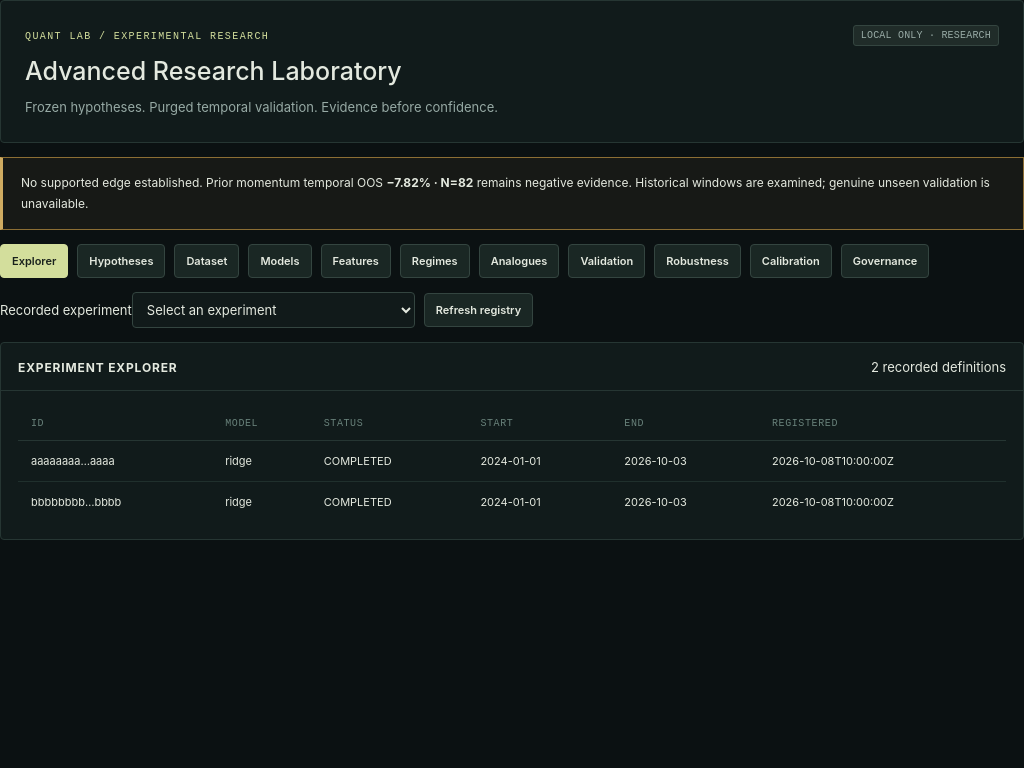
Test case: Advanced experimental Quant Lab › analogue search uses explicit reference date and stored outcomes
Select "ridge · COMPLETED · aaaaaaaa…aaaa" in the dropdown labelled "Recorded experiment" at coordinates (273, 310), box [132,292,415,328]
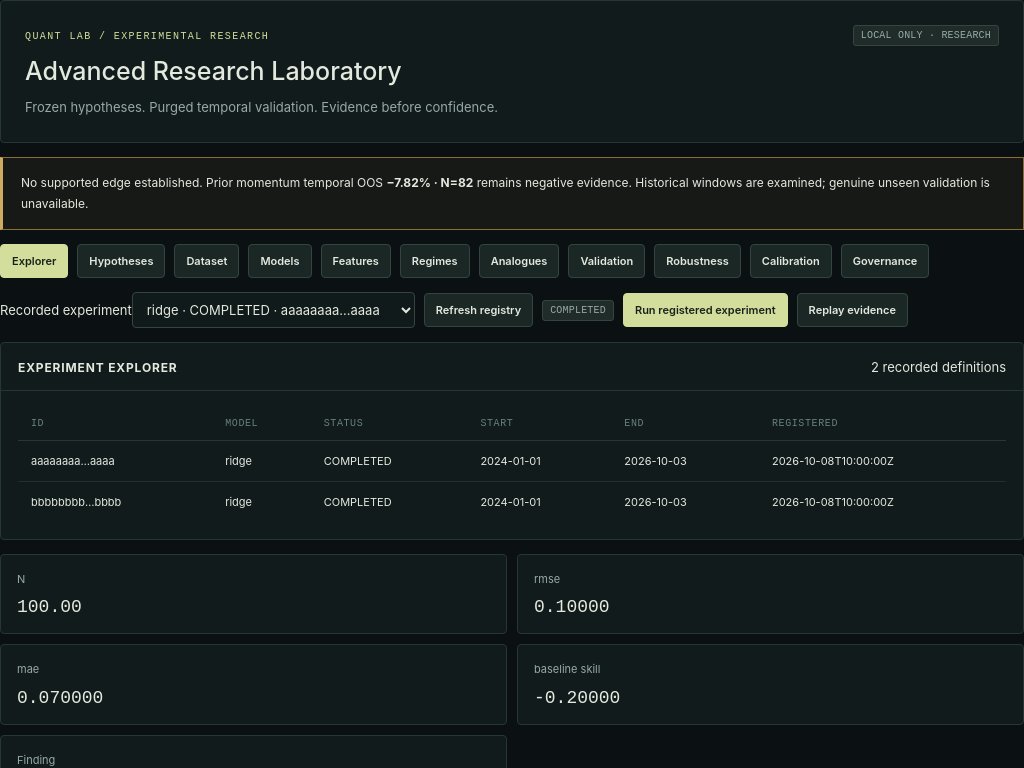
Click the tab "Analogues" at coordinates (519, 261), box [479,244,559,278]
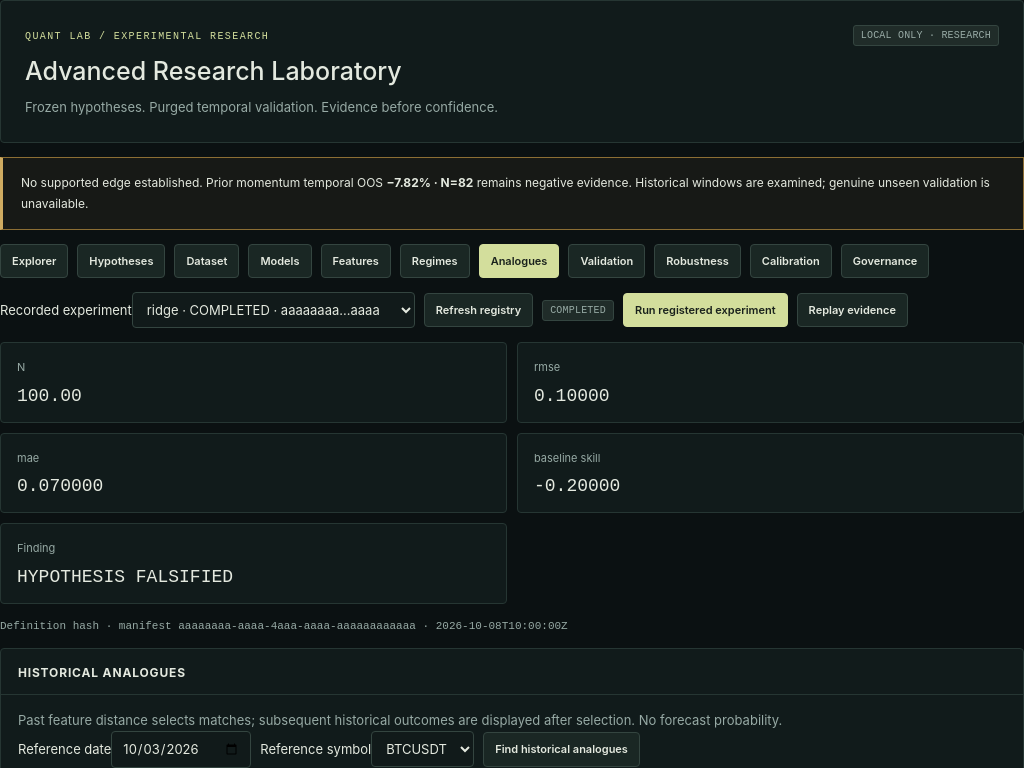
Type "2026-09-01" into the date field labelled "Reference date" at coordinates (181, 749), box [111,731,251,767]
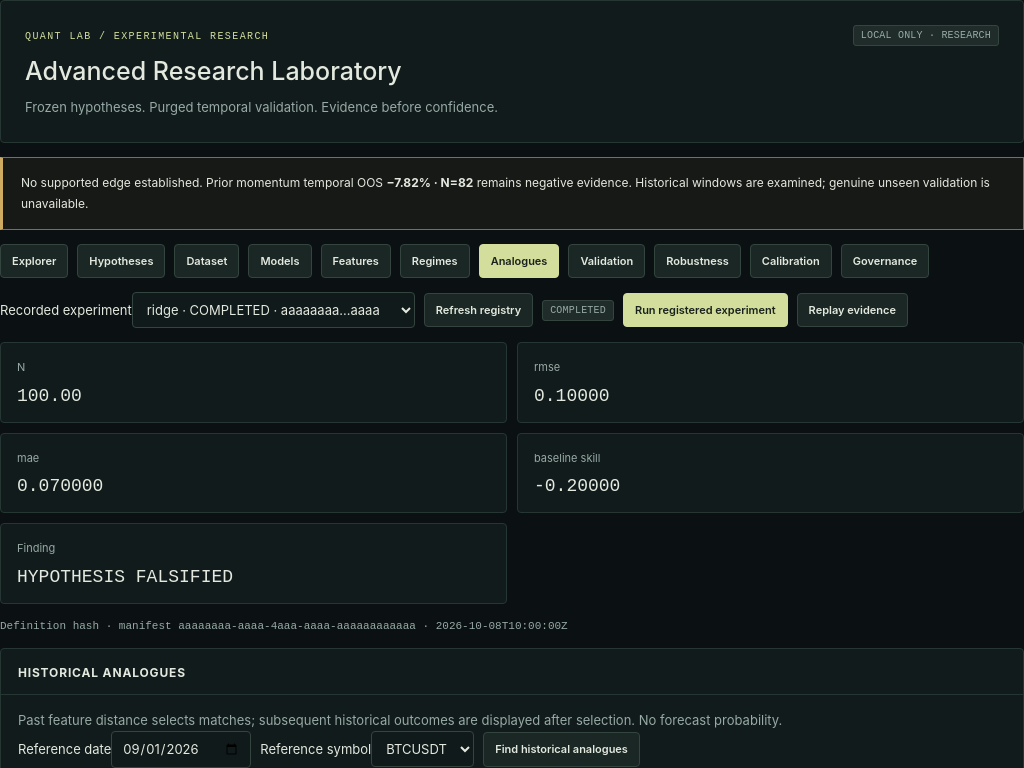
Click the button "Find historical analogues" at coordinates (562, 749), box [483,732,640,767]
(page scrolled)
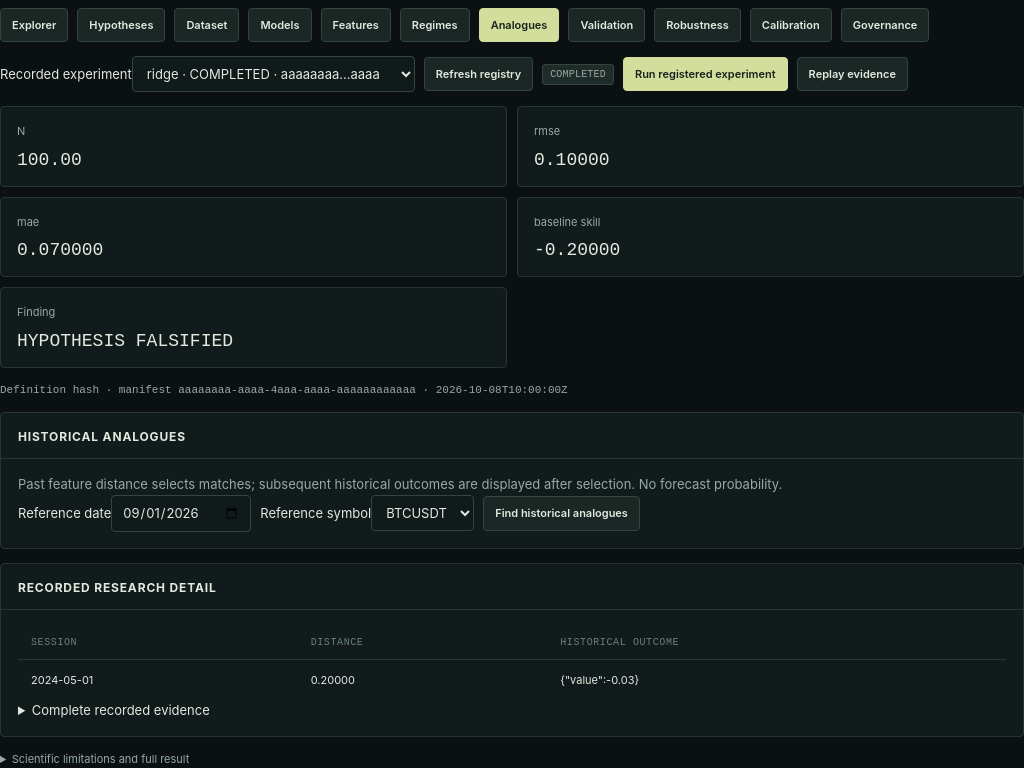
Expected: the text "2024-05-01" is shown, [31,673,93,687]
